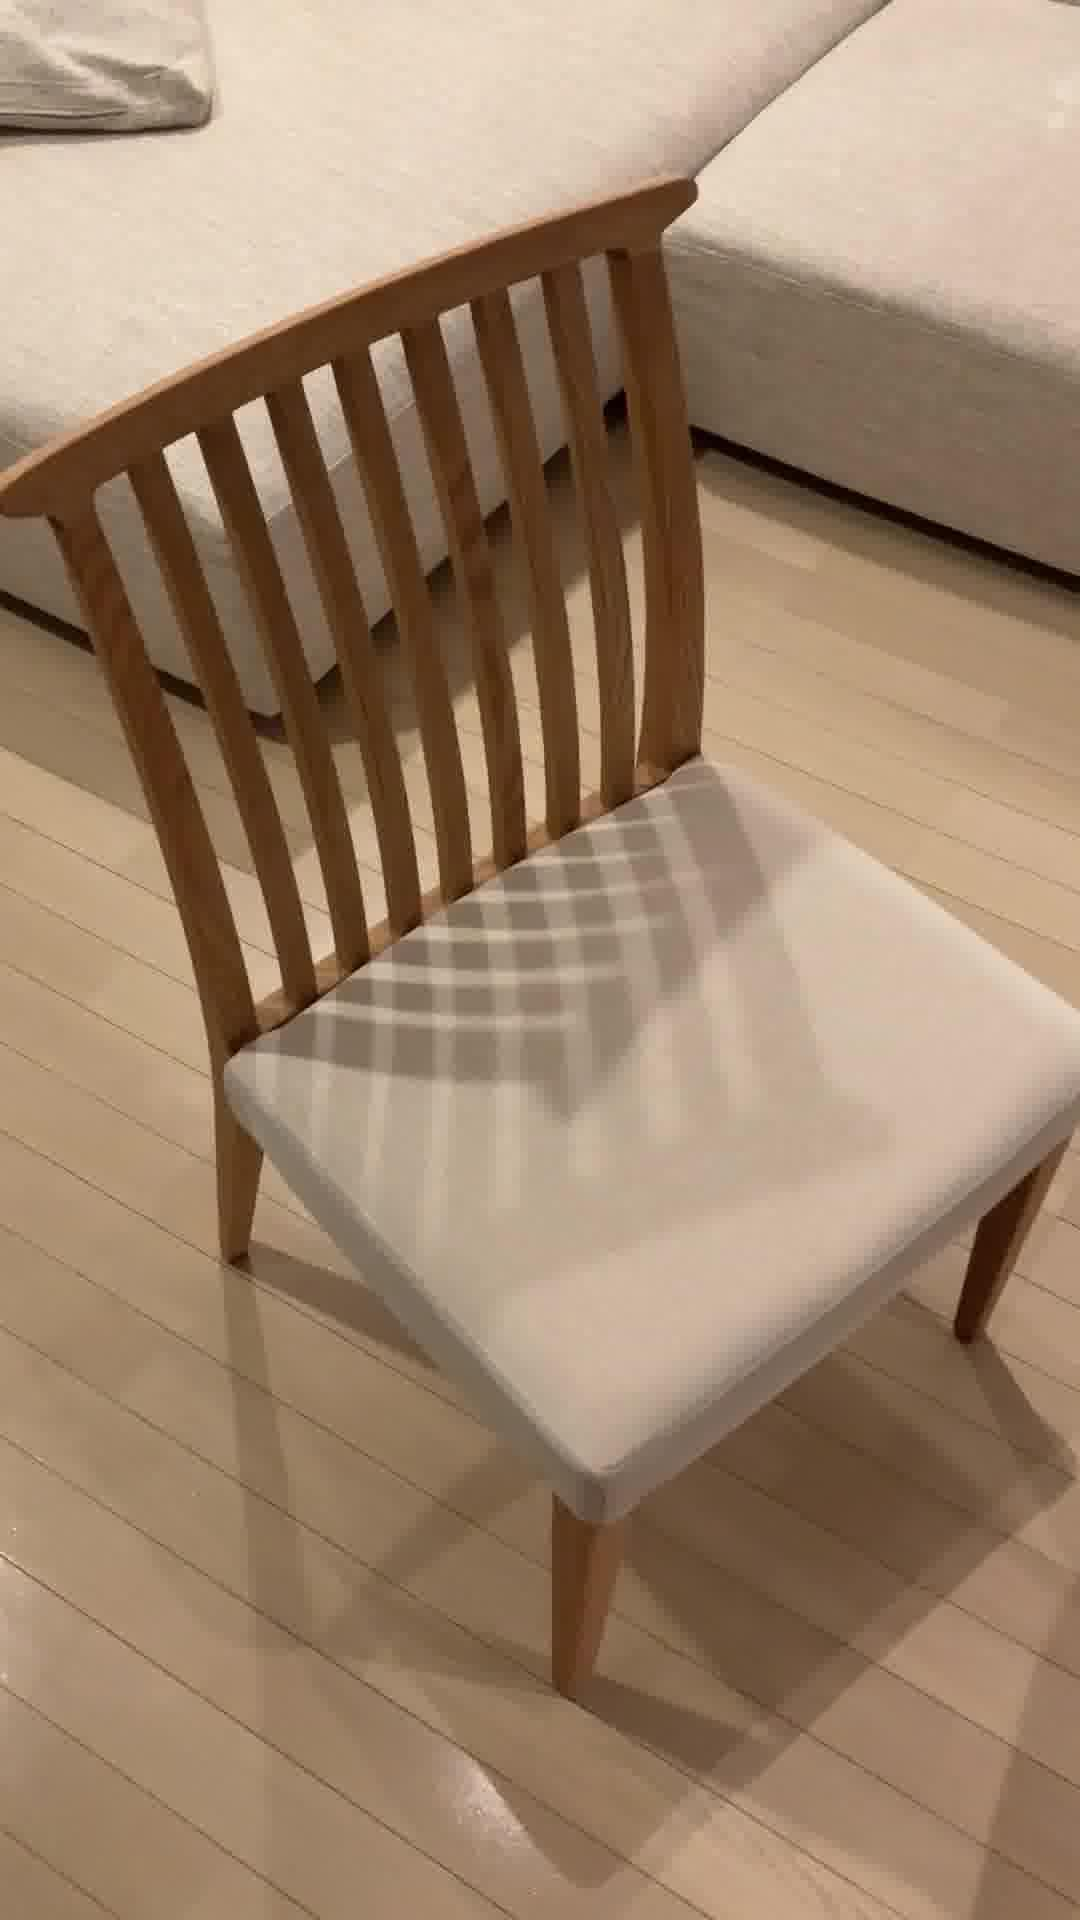takumikan-chair: (0, 167, 1080, 1700)
